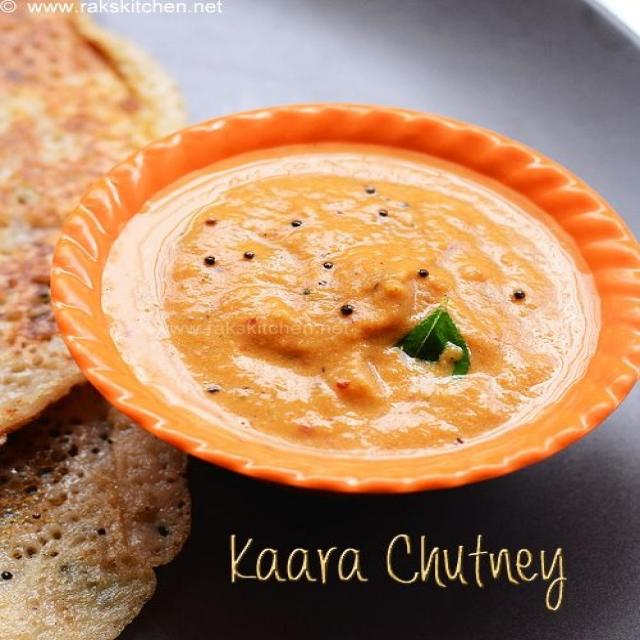kaara chutney: (106, 139, 579, 446)
